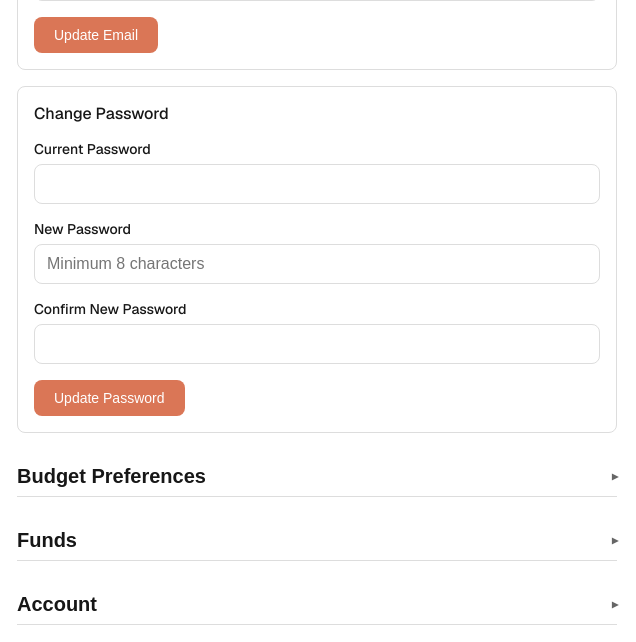
Test: SettingsPage › opening a section closes the previously open one
(page scrolled)
Click Budget Preferences — it opens, Profile closes
Click the button "Budget Preferences ▾" at (111, 476), box x1=17 y1=465 x2=617 y2=497
(page scrolled)
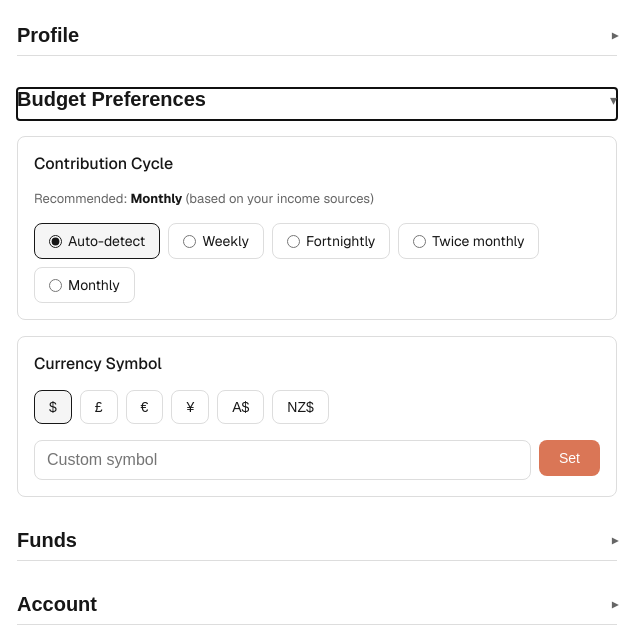
Expected: the button "Profile ▾" is collapsed, x1=17 y1=24 x2=617 y2=56
Expected: the button "Budget Preferences ▾" is expanded, x1=17 y1=88 x2=617 y2=120
